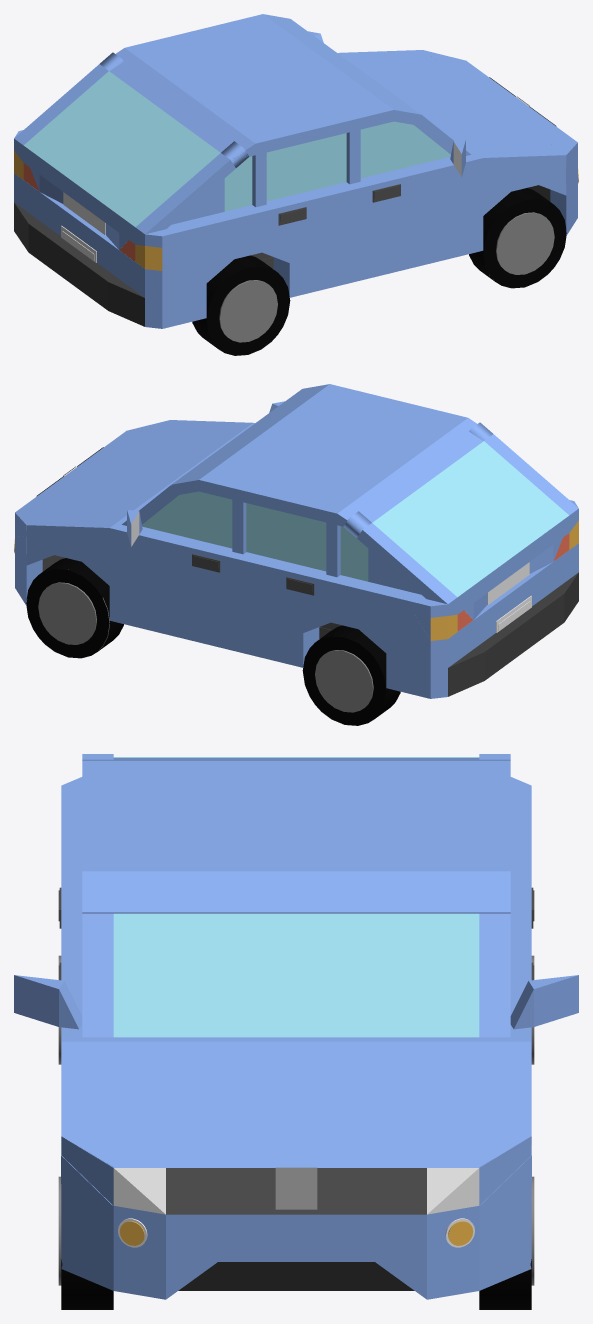
Rendered from car_sedan_Colour_Combined.fbx.
3 renders of one model, top to bottom at view 1: azimuth 30°, elevation 25°; view 2: azimuth 150°, elevation 25°; view 3: azimuth 270°, elevation 25°, orthographic. The views are drawn at different scales.
Parts seen in each view (by area): view 1: Part35; view 2: Part35; view 3: Part35.
Boxes of the visible parts, box(x1,y1,x2,y2) form: Part35: box(14, 14, 578, 355); Part35: box(14, 384, 578, 725); Part35: box(14, 754, 578, 1309).
Size of the model in its own units: 540 by 347 by 226.
